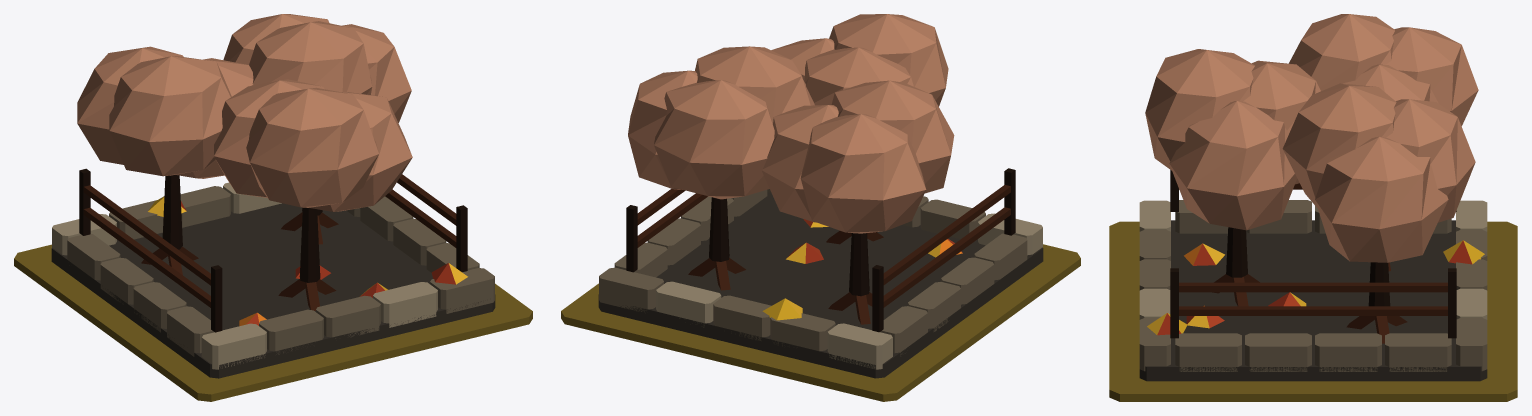
File: frostgrove_t2.glb
3 views of the same model, side by side, from view 1: azimuth 30°, elevation 25°; view 2: azimuth 150°, elevation 25°; view 3: azimuth 270°, elevation 25° (orthographic). The views are drawn at different scales.
Parts seen in each view (by area): view 1: MMR | frostgrove | T02 Architecture.001, MMR | frostgrove | Tier 02 Ground.001, MMR | frostgrove | T02 Autumn Dressing.001; view 2: MMR | frostgrove | T02 Architecture.001, MMR | frostgrove | Tier 02 Ground.001, MMR | frostgrove | T02 Autumn Dressing.001; view 3: MMR | frostgrove | T02 Architecture.001, MMR | frostgrove | Tier 02 Ground.001, MMR | frostgrove | T02 Autumn Dressing.001.
Boxes of the visible parts, box(x1,y1,x2,y2) form: MMR | frostgrove | T02 Architecture.001: box(51, 14, 495, 378); MMR | frostgrove | Tier 02 Ground.001: box(14, 244, 532, 401); MMR | frostgrove | T02 Autumn Dressing.001: box(148, 196, 467, 326); MMR | frostgrove | T02 Architecture.001: box(598, 14, 1043, 378); MMR | frostgrove | Tier 02 Ground.001: box(561, 244, 1080, 401); MMR | frostgrove | T02 Autumn Dressing.001: box(762, 219, 962, 320); MMR | frostgrove | T02 Architecture.001: box(1139, 14, 1487, 381); MMR | frostgrove | Tier 02 Ground.001: box(1109, 221, 1517, 401); MMR | frostgrove | T02 Autumn Dressing.001: box(1147, 240, 1484, 335).
Size of the model in its own units: 2.35 by 1.64 by 2.35.
1 material, 1 textured.
